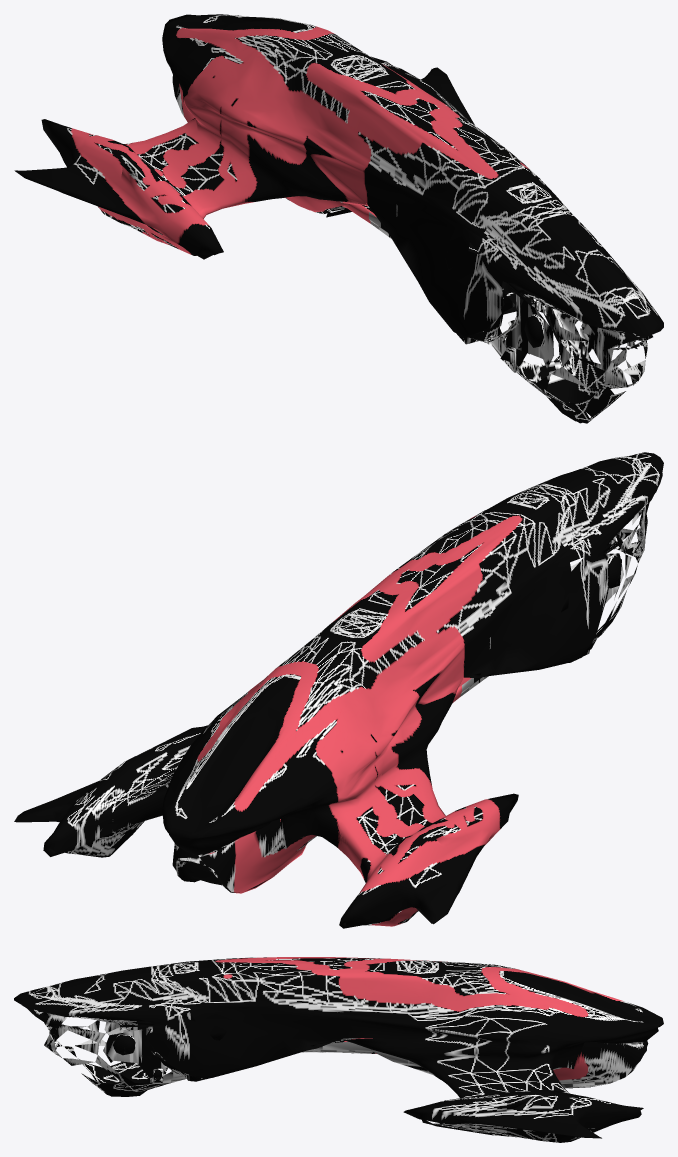
The model's file is ship2.obj.
3 views of the same model, one above another, from view 1: azimuth 30°, elevation 25°; view 2: azimuth 150°, elevation 25°; view 3: azimuth 270°, elevation 25° (orthographic). The views are drawn at different scales.
Bounding box in the file's own units: 254 × 111 × 496.
Materials: 1 (1 with a texture image).
